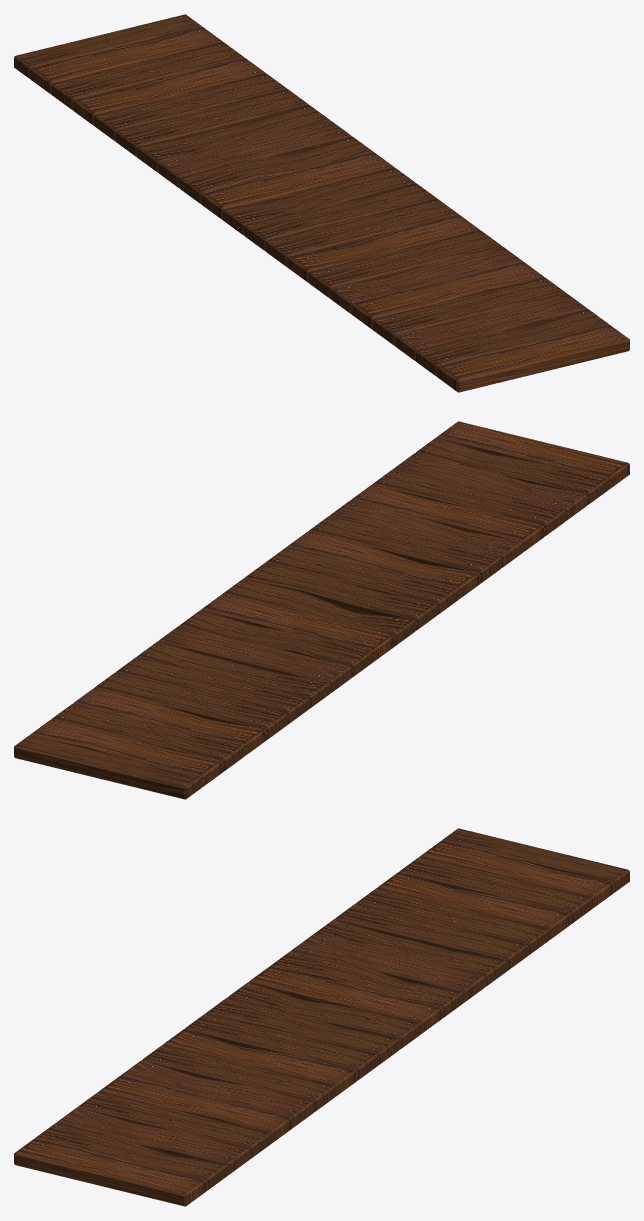
File: Balcony_Floor_2.fbx
The picture shows the model from 3 angles, top to bottom: view 1: azimuth 30°, elevation 25°; view 2: azimuth 150°, elevation 25°; view 3: azimuth 330°, elevation 25°; orthographic projection.
Visible parts, largest first — view 1: 1_Balcony_Floor_2; view 2: 1_Balcony_Floor_2; view 3: 1_Balcony_Floor_2.
Boxes of the visible parts, x1,y1,x2,y2 form: 1_Balcony_Floor_2: (14, 14, 629, 392); 1_Balcony_Floor_2: (14, 421, 629, 799); 1_Balcony_Floor_2: (14, 828, 629, 1206).
Size of the model in its own units: 250 by 25.87 by 1112.
